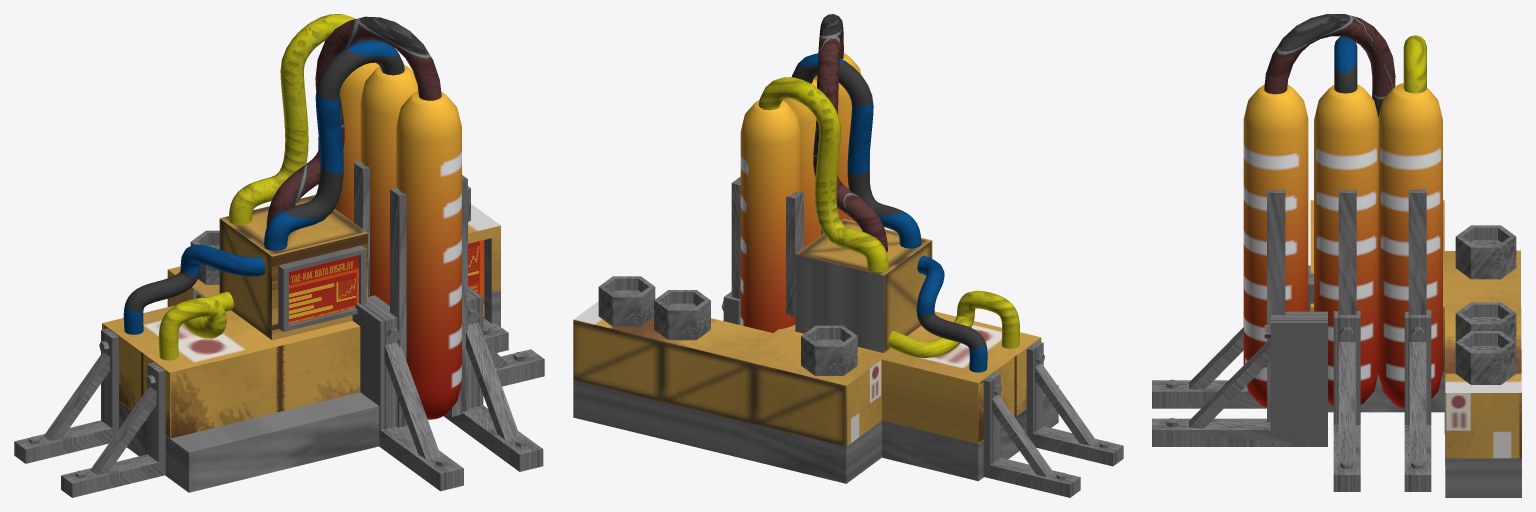
The model's file is scrap 6 raw.fbx.
The picture shows the model from 3 angles, left to right: view 1: azimuth 30°, elevation 25°; view 2: azimuth 150°, elevation 25°; view 3: azimuth 270°, elevation 25°; orthographic projection. The views are drawn at different scales.
Visible parts, largest first — view 1: Cube; view 2: Cube; view 3: Cube.
Boxes of the visible parts, x1,y1,x2,y2 form: Cube: (14, 14, 544, 497); Cube: (573, 14, 1123, 497); Cube: (1152, 14, 1521, 497).
Size of the model in its own units: 973 by 756 by 639.
